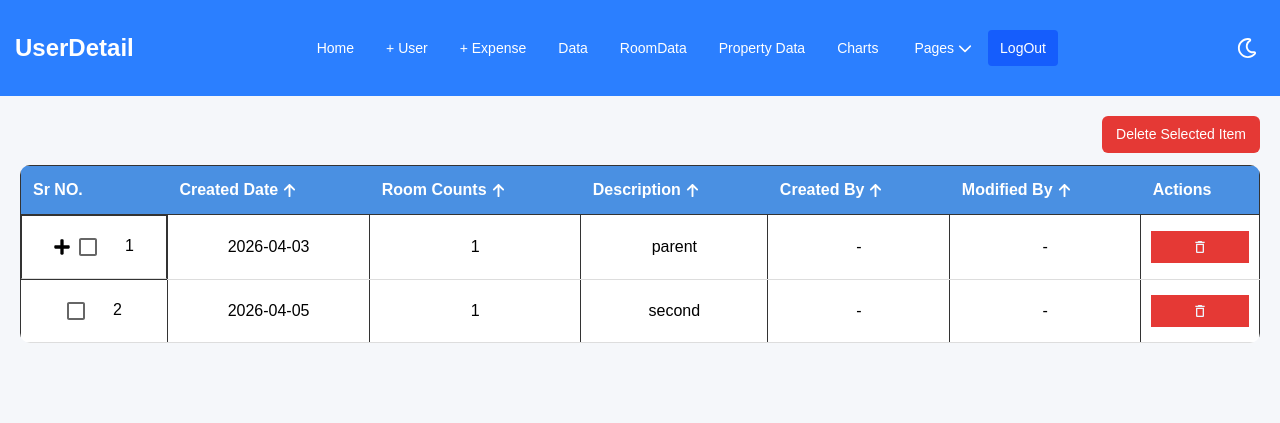
Test: Room Data Component › Room Data show sub array
The width and height of the screenshot is (1280, 423).
Click the element with test id "expand-btn".
click(62, 247)  # box [54,239,70,255]
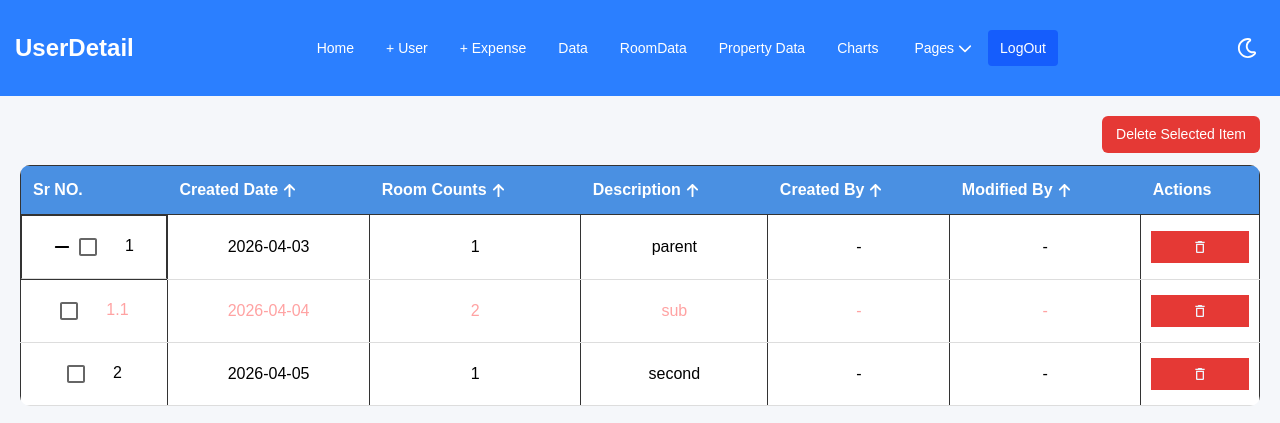
Expected: the row with test id "sub-row" is shown, [20,280,1260,342]
